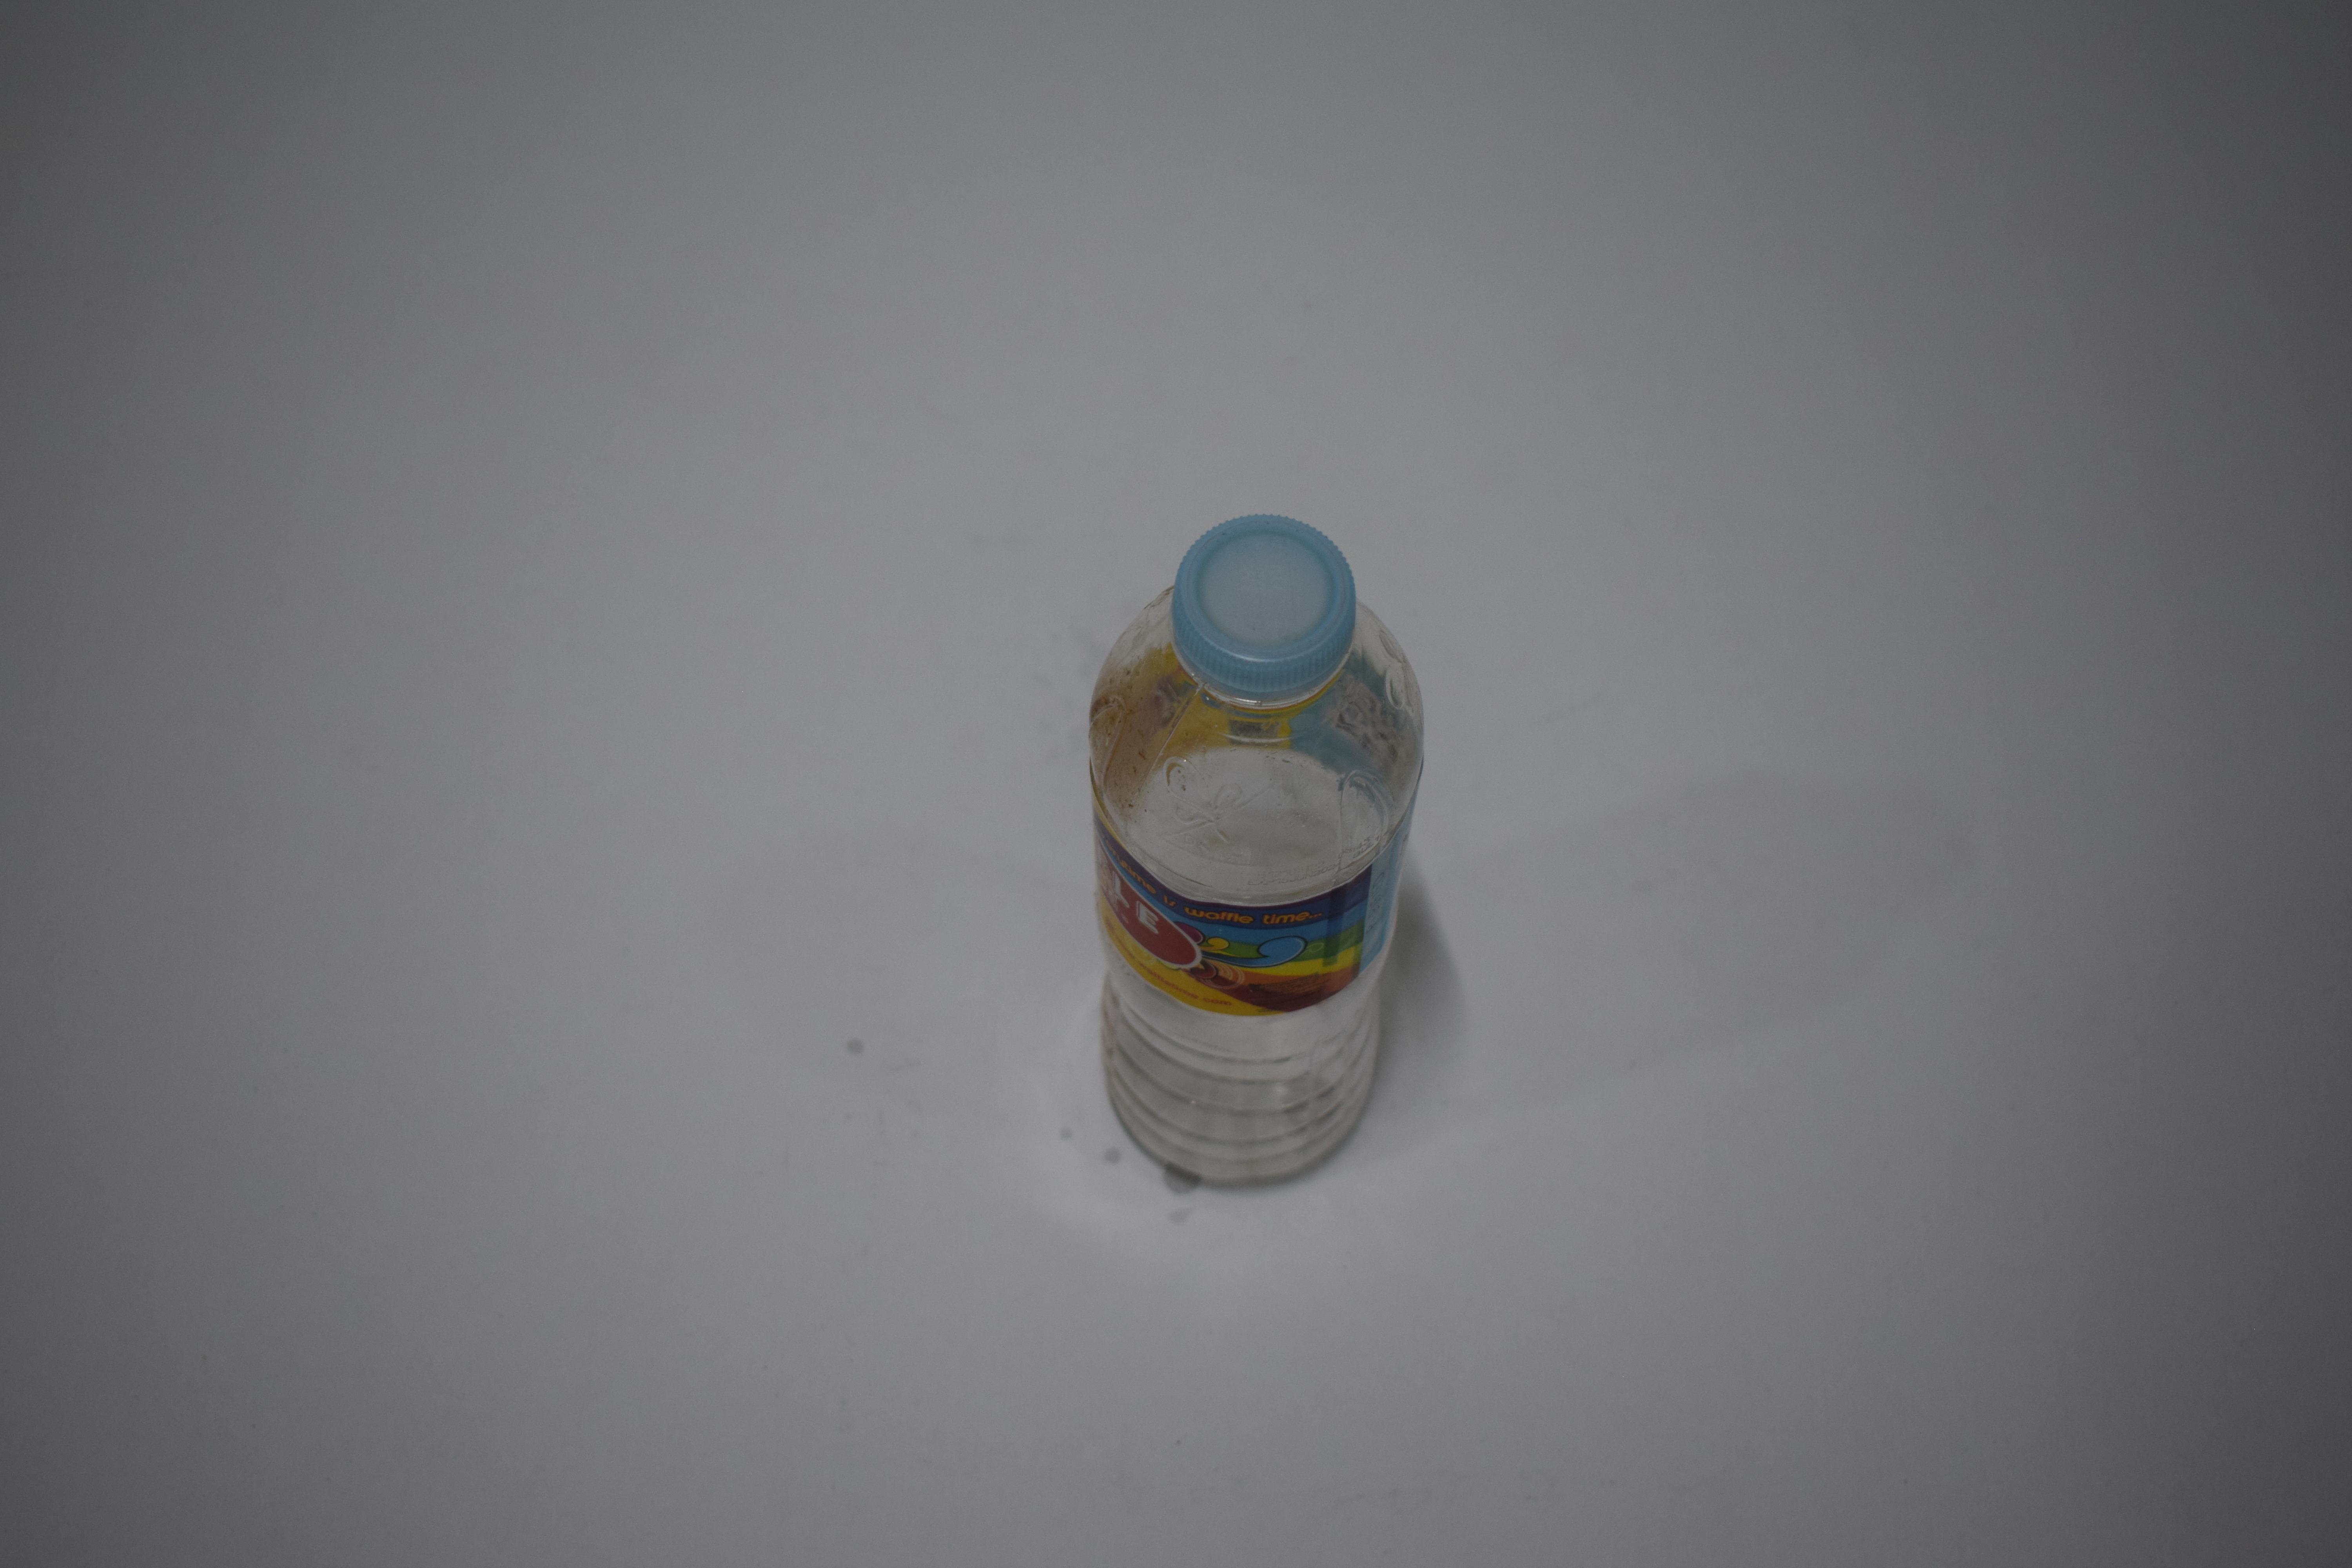bottle: (0, 0, 194, 411)
